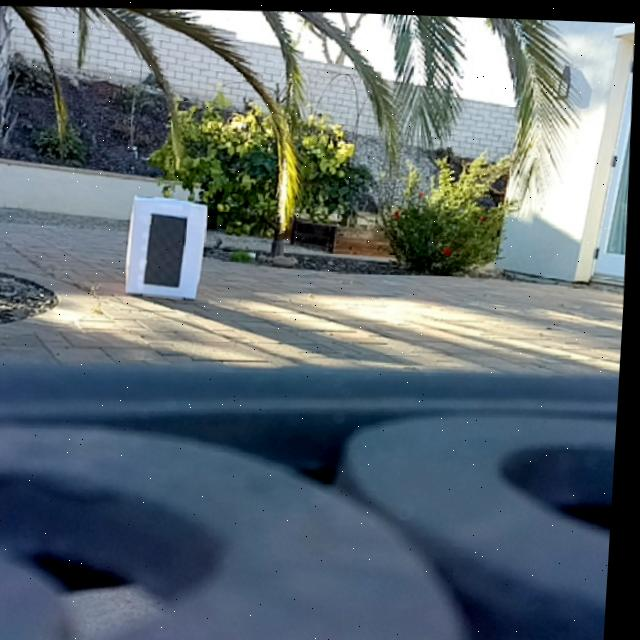led: (147, 212, 190, 286)
